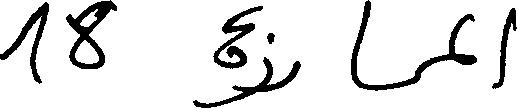1: (0, 0, 50, 84)
8: (66, 0, 111, 69)
ا: (349, 0, 370, 91), (498, 5, 515, 88)
ة: (212, 5, 254, 68)
ح: (402, 59, 426, 88)
ر: (278, 58, 299, 88)
ز: (252, 33, 273, 94)
ل: (447, 11, 472, 51)
م: (454, 51, 479, 73)
